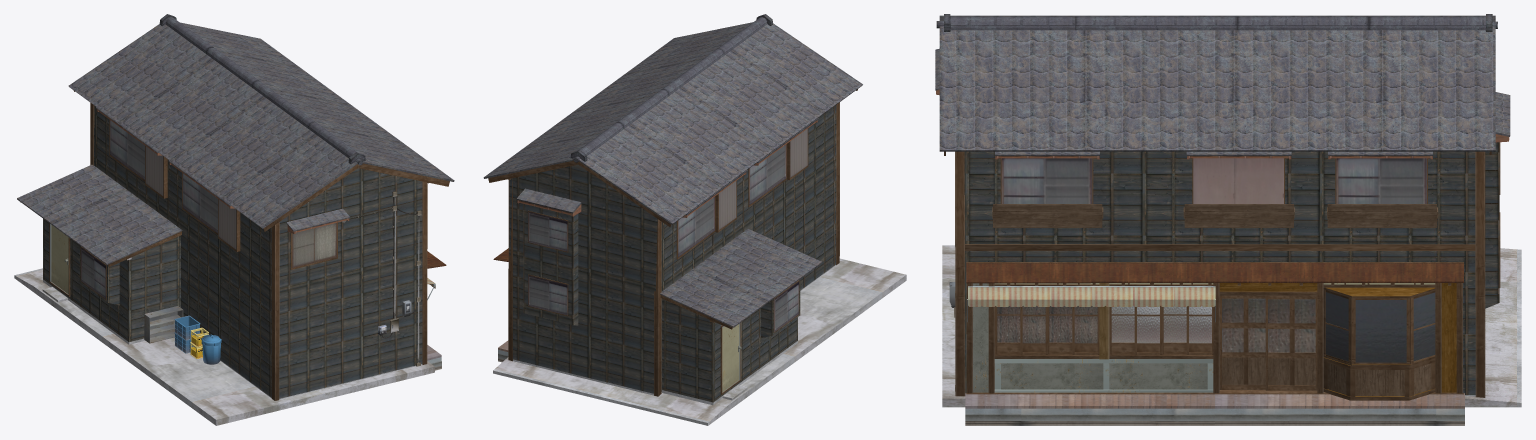
The model's file is house_shop_01k_2a.fbx.
The picture shows the model from 3 angles, left to right: view 1: azimuth 30°, elevation 25°; view 2: azimuth 150°, elevation 25°; view 3: azimuth 270°, elevation 25°; orthographic projection. The views are drawn at different scales.
Parts seen in each view (by area): view 1: house_shop_01k_2a; view 2: house_shop_01k_2a; view 3: house_shop_01k_2a.
Part boxes in pixels (x1=…): house_shop_01k_2a: x1=14, y1=14, x2=454, y2=425; house_shop_01k_2a: x1=483, y1=14, x2=906, y2=425; house_shop_01k_2a: x1=935, y1=14, x2=1521, y2=425.
Bounding box in the file's own units: 922 × 1302 × 854.
Materials: 11 (11 with a texture image).
